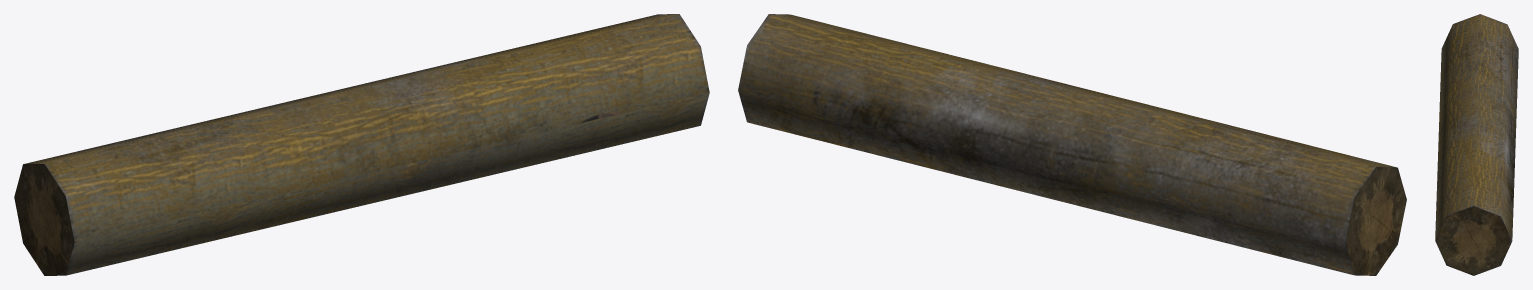
3 views of the same model, side by side, from view 1: azimuth 30°, elevation 25°; view 2: azimuth 150°, elevation 25°; view 3: azimuth 270°, elevation 25° (orthographic). The views are drawn at different scales.
Visible parts, largest first — view 1: SW_C_lo; view 2: SW_C_lo; view 3: SW_C_lo.
Part boxes in pixels (bbox=[...]): SW_C_lo: bbox=[14, 14, 709, 275]; SW_C_lo: bbox=[738, 14, 1406, 275]; SW_C_lo: bbox=[1435, 14, 1518, 275].
Bounding box in the file's own units: 1.24 × 0.21 × 0.2275.
Materials: 1 (1 with a texture image).
